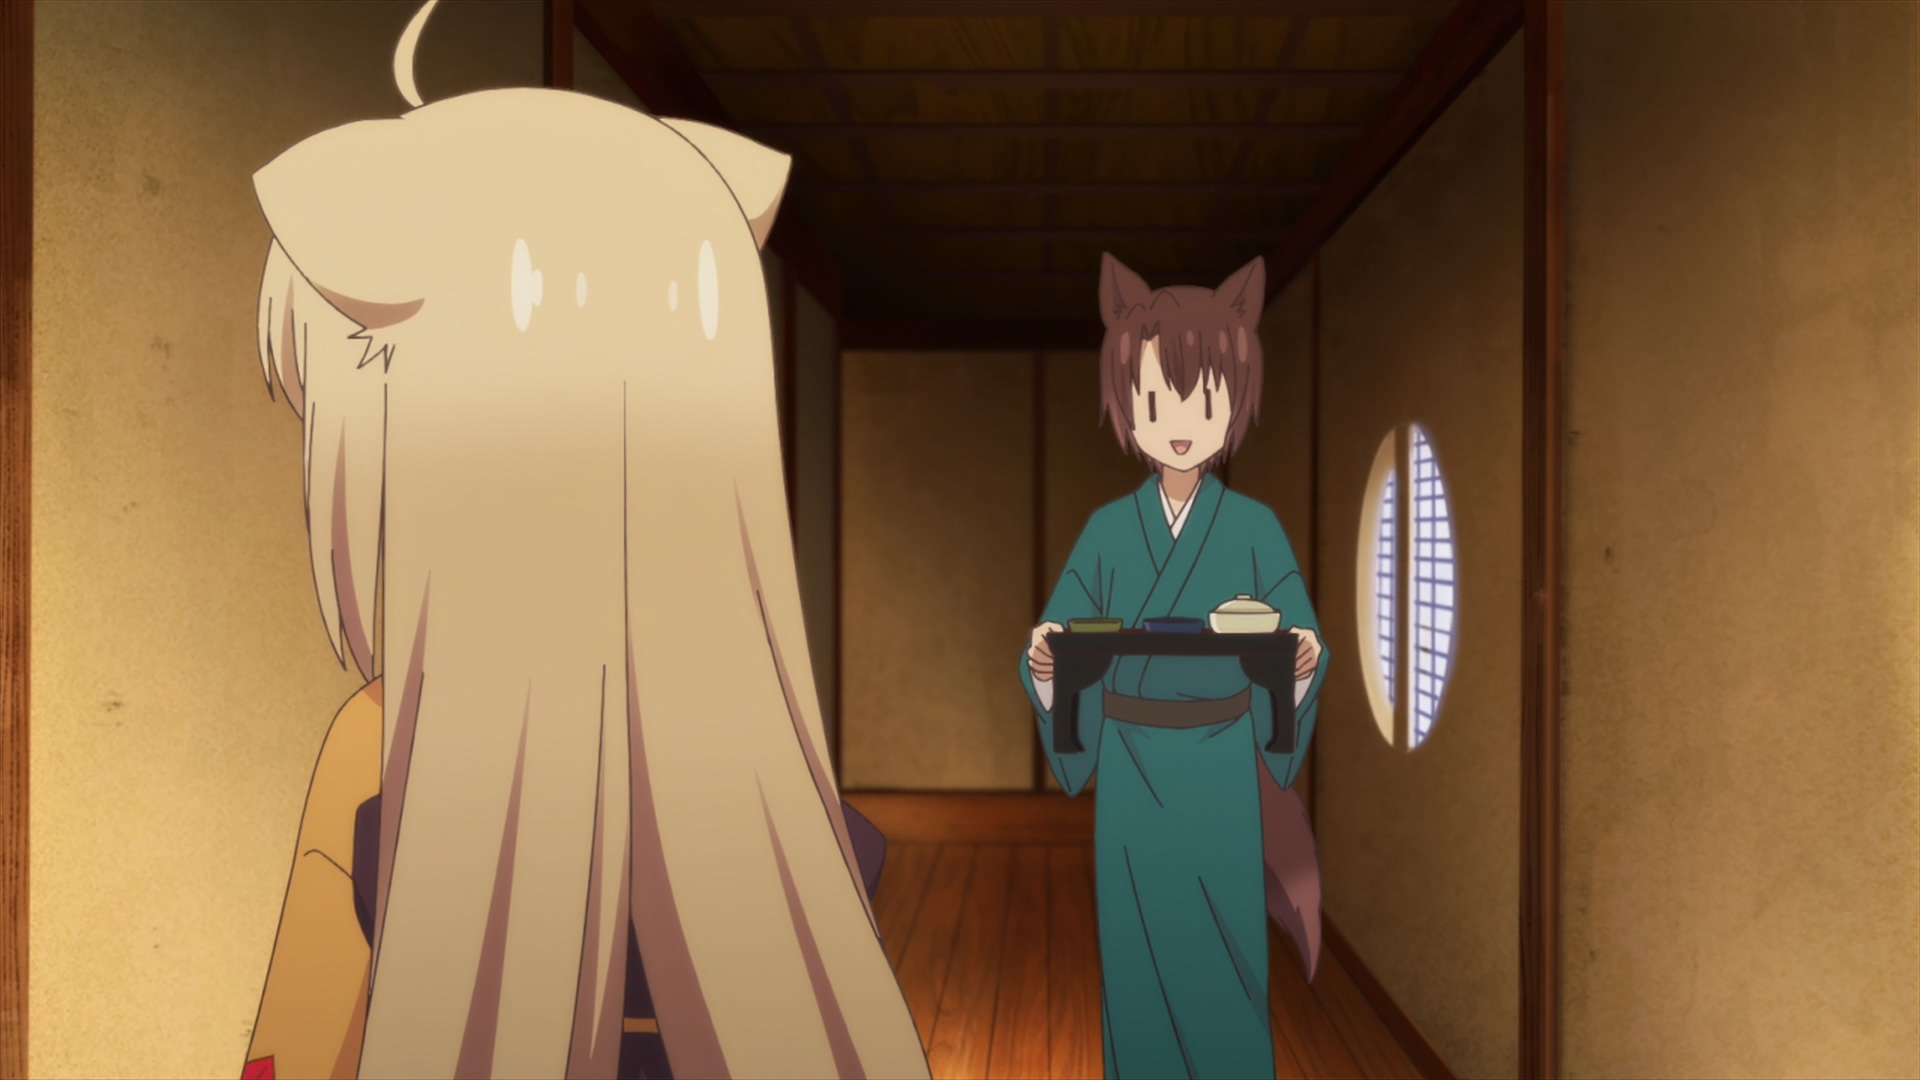枣: (1019, 249, 1331, 1080)
柚: (241, 1, 931, 1080)
